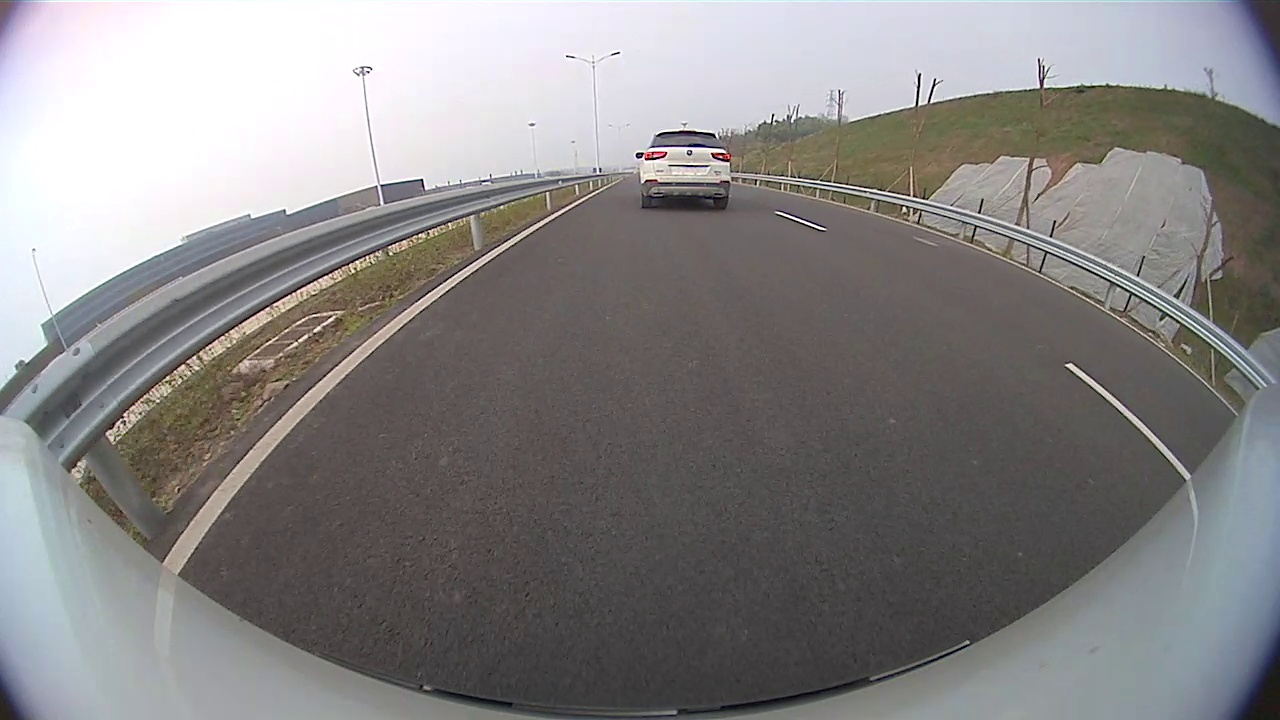car: (635, 128, 733, 210)
